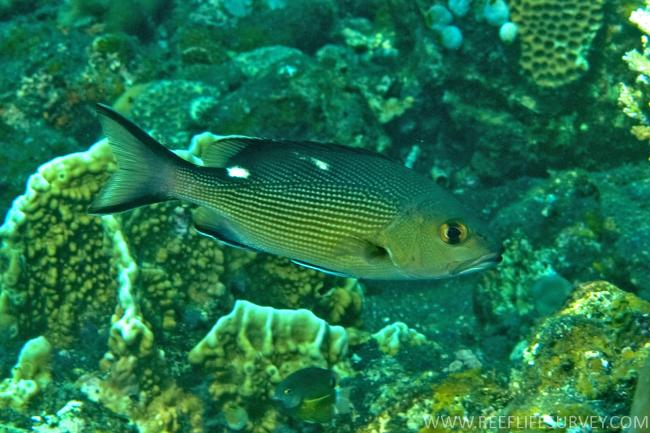fish: (87, 103, 506, 281)
